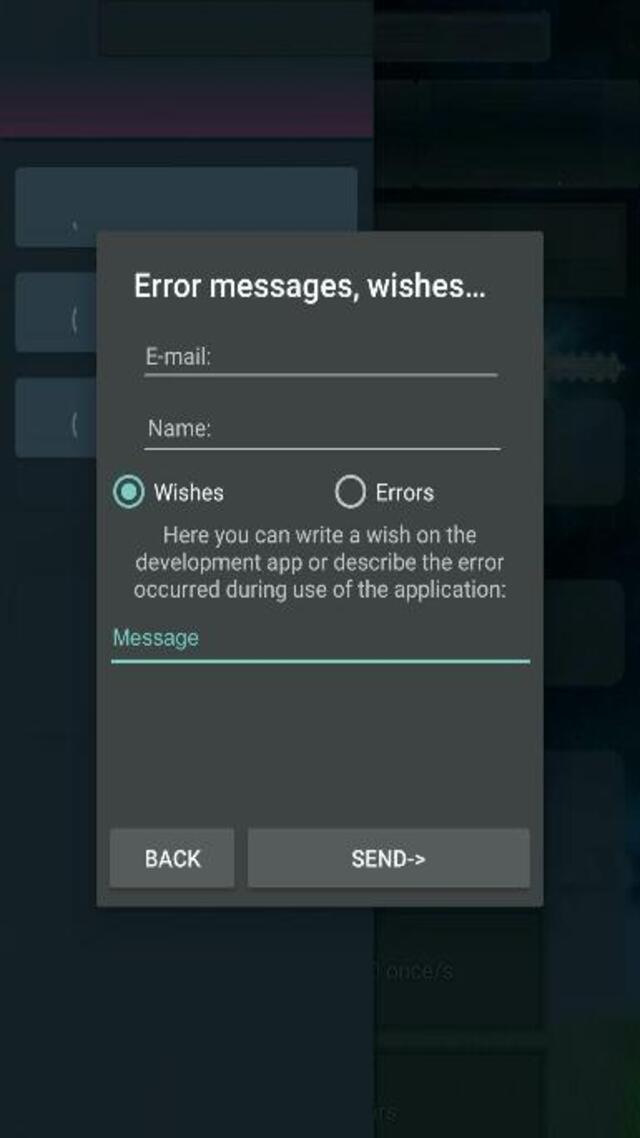CheckedTextView: (112, 472, 225, 510), (335, 474, 433, 508)
Text: (133, 271, 486, 300), (131, 580, 510, 604), (132, 553, 506, 574), (160, 524, 480, 548), (347, 842, 429, 872), (140, 847, 204, 871), (147, 418, 214, 440), (143, 347, 210, 368), (377, 482, 434, 502), (156, 483, 223, 499)
TextButton: (246, 827, 529, 886), (110, 827, 236, 886)
